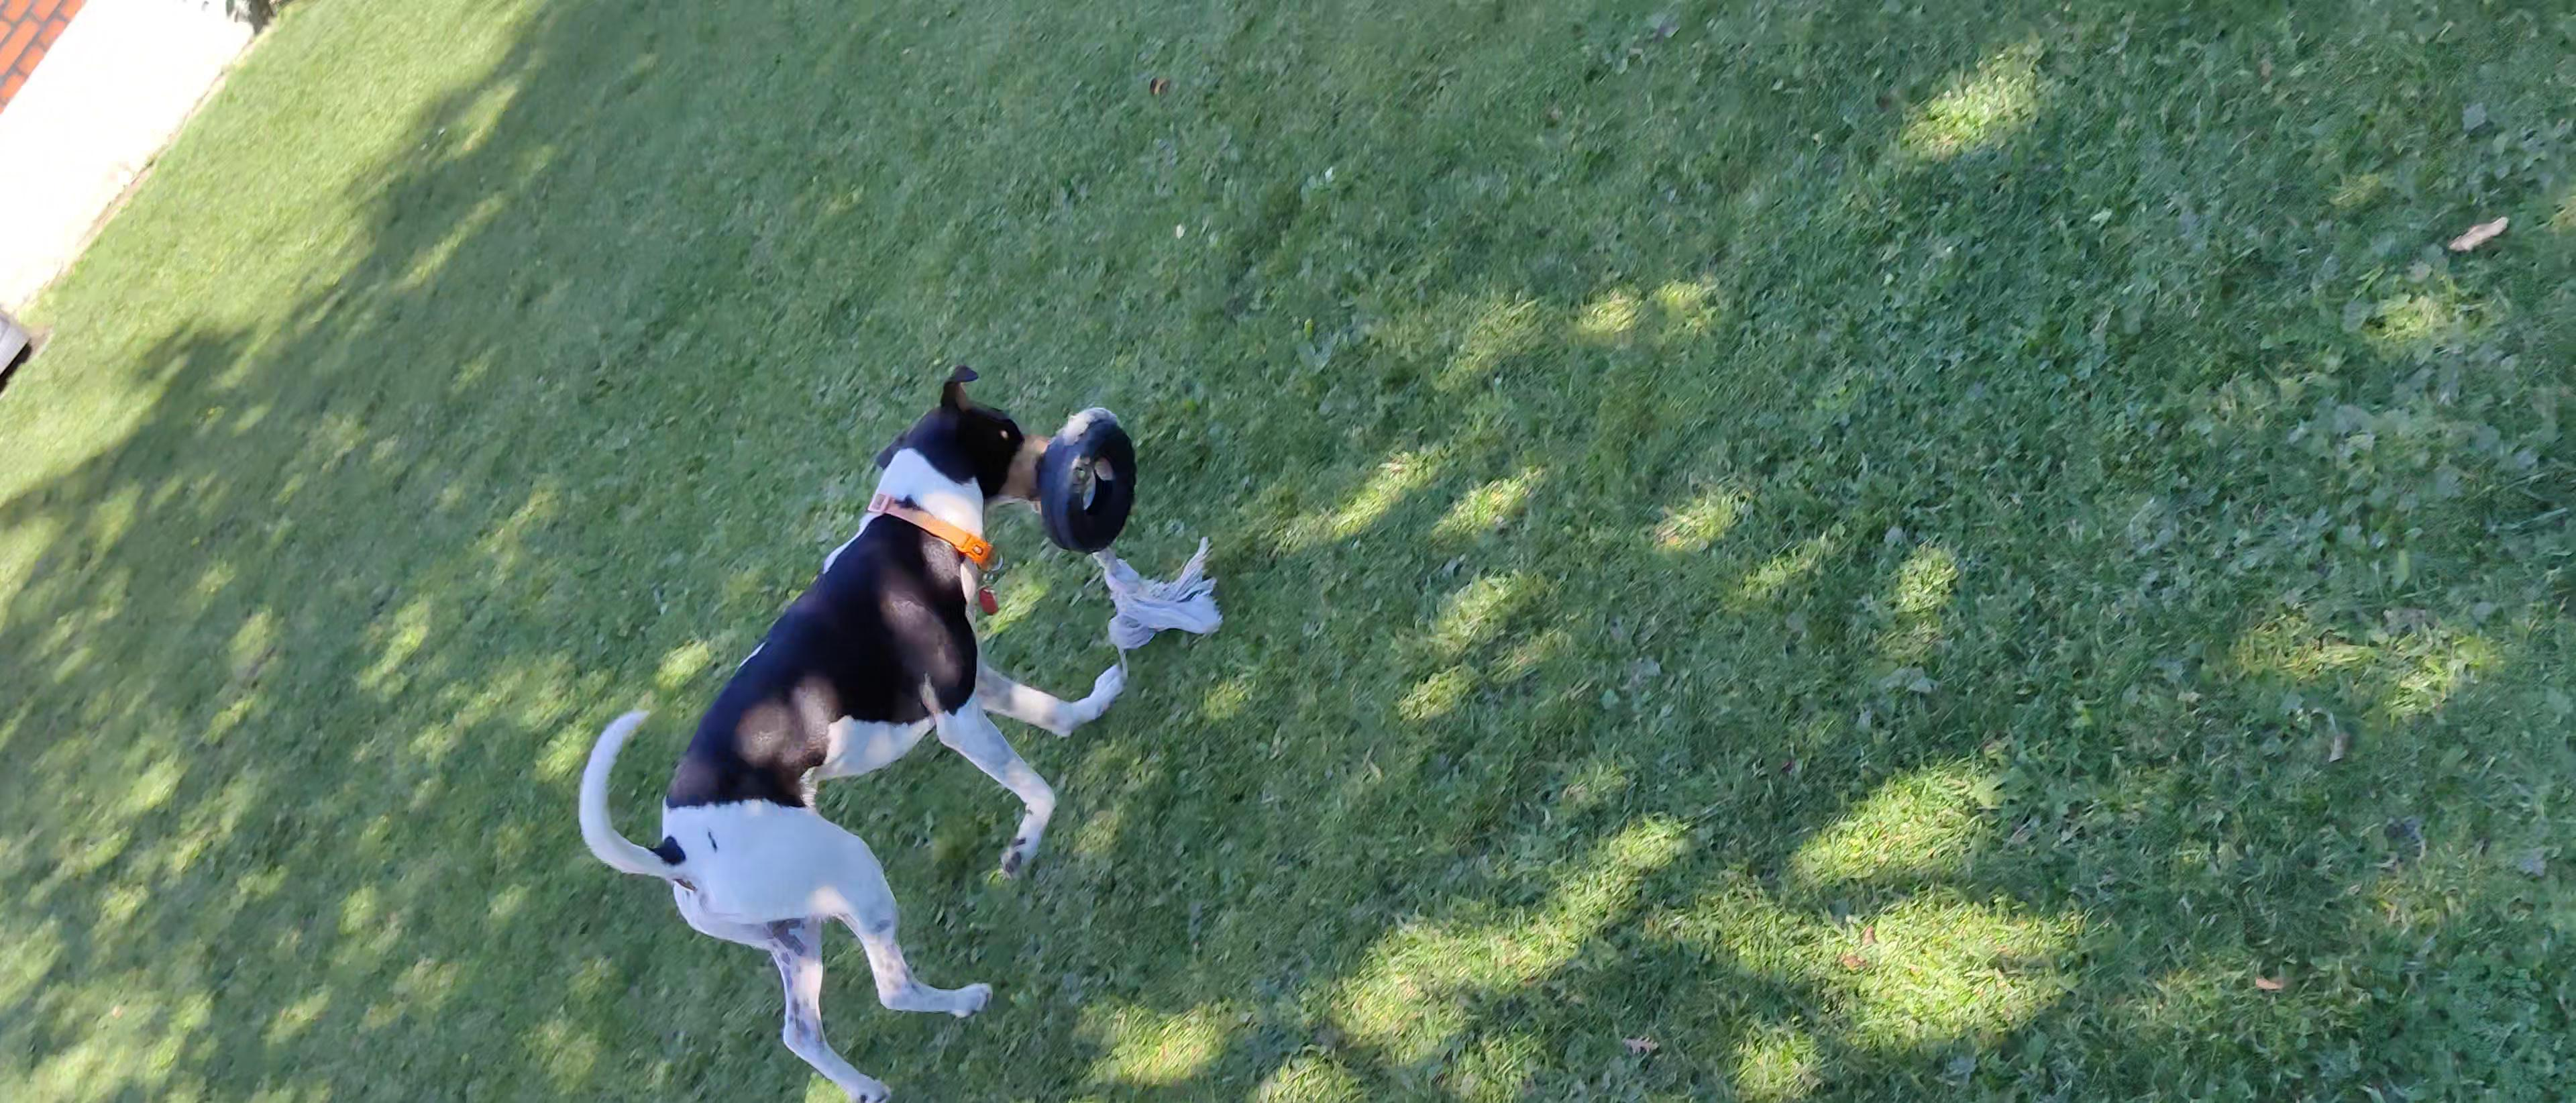Dog: (565, 357, 1132, 1103)
